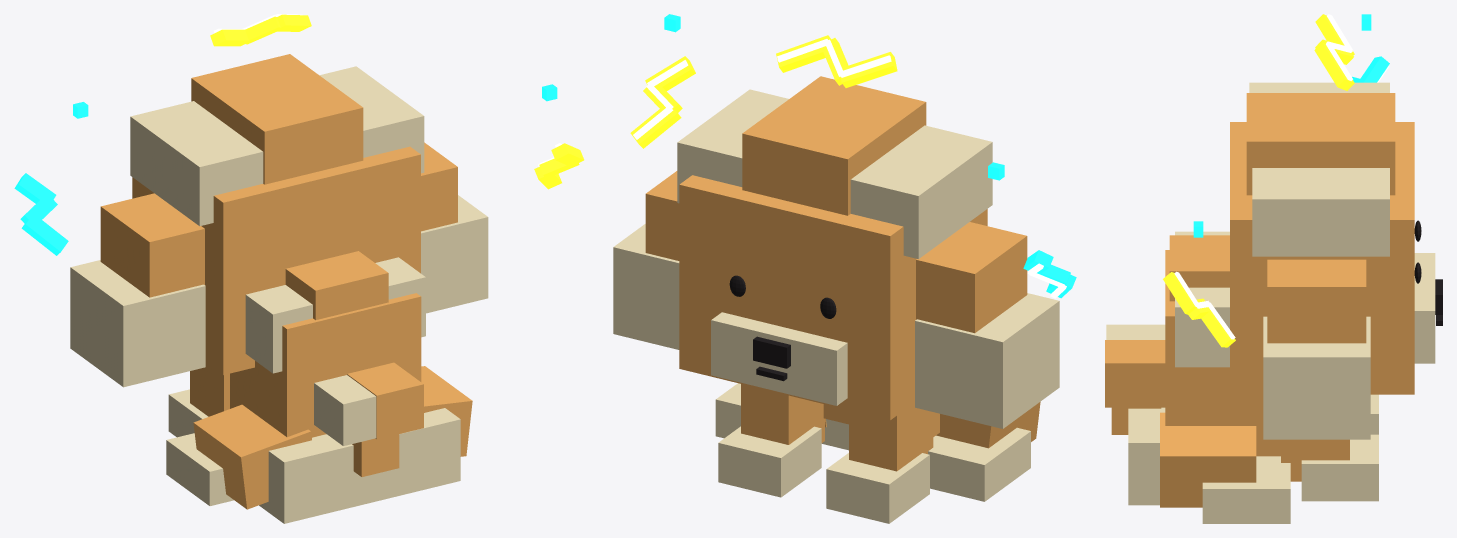
The model's file is Poodle_Upgrade.gltf.
3 views of the same model, side by side, from view 1: azimuth 30°, elevation 25°; view 2: azimuth 150°, elevation 25°; view 3: azimuth 270°, elevation 25° (orthographic). The views are drawn at different scales.
Parts seen in each view (by area): view 1: CoreHead, BroadHeadPuffC, CompactTorso, LargeEarPuffL, GroundedRumpPuff, BroadHeadPuffL, SideEarBaseL, LegBL_Leg, LargeEarPuffR, BodyPuffC, BroadHeadPuffR, BodyPuffL (+11 smaller); view 2: CoreHead, BroadHeadPuffC, LargeEarPuffL, BroadHeadPuffL, SideEarBaseL, CreamMuzzle, LargeEarPuffR, LegFR_Paw, LegFL_Paw, BroadHeadPuffR, LegBL_Paw, LegFL_Leg (+11 smaller); view 3: CoreHead, BroadHeadPuffR, BroadHeadPuffC, LargeEarPuffR, SideEarBaseR, LegBR_Leg, CompactTorso, LegBR_Paw, TailPuffR, LegFR_Paw, GroundedRumpPuff, BodyPuffR (+11 smaller).
Part boxes in pixels (box(x1,y1,x2,y2)): CoreHead: box(132, 146, 420, 374); BroadHeadPuffC: box(191, 54, 363, 184); CompactTorso: box(230, 293, 421, 437); LargeEarPuffL: box(70, 260, 205, 387); GroundedRumpPuff: box(259, 408, 460, 523); BroadHeadPuffL: box(130, 101, 263, 226); SideEarBaseL: box(100, 193, 204, 297); LegBL_Leg: box(193, 404, 311, 509); LargeEarPuffR: box(421, 195, 488, 313); BodyPuffC: box(285, 251, 388, 320); BroadHeadPuffR: box(320, 66, 424, 173); BodyPuffL: box(245, 285, 312, 373); CoreHead: box(679, 175, 987, 420); BroadHeadPuffC: box(742, 76, 926, 215); LargeEarPuffL: box(915, 293, 1059, 428); BroadHeadPuffL: box(850, 125, 992, 258); SideEarBaseL: box(916, 222, 1027, 333); CreamMuzzle: box(711, 312, 847, 405); LargeEarPuffR: box(613, 224, 679, 349); LegFR_Paw: box(718, 426, 821, 497); LegFL_Paw: box(826, 453, 929, 523); BroadHeadPuffR: box(677, 89, 788, 203); LegBL_Paw: box(928, 427, 1030, 501); LegFL_Leg: box(849, 402, 933, 471); CoreHead: box(1230, 122, 1414, 394); BroadHeadPuffR: box(1252, 168, 1389, 256); BroadHeadPuffC: box(1246, 93, 1395, 195); LargeEarPuffR: box(1263, 316, 1370, 439); SideEarBaseR: box(1267, 259, 1366, 343); LegBR_Leg: box(1160, 412, 1256, 507); CompactTorso: box(1165, 250, 1280, 456); LegBR_Paw: box(1202, 456, 1290, 523); TailPuffR: box(1105, 340, 1165, 407); LegFR_Paw: box(1301, 434, 1378, 501); GroundedRumpPuff: box(1128, 407, 1165, 505); BodyPuffR: box(1175, 287, 1229, 367).
Bounding box in the file's own units: 4.07 × 3.38 × 2.45.
